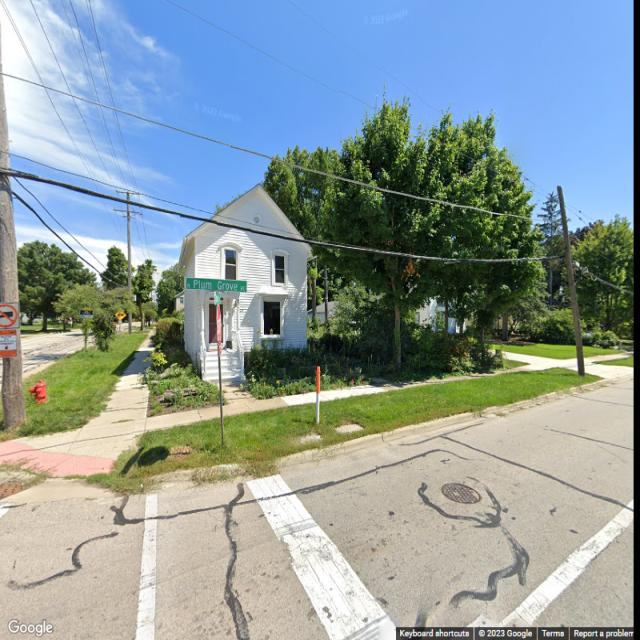House: (180, 184, 314, 383)
